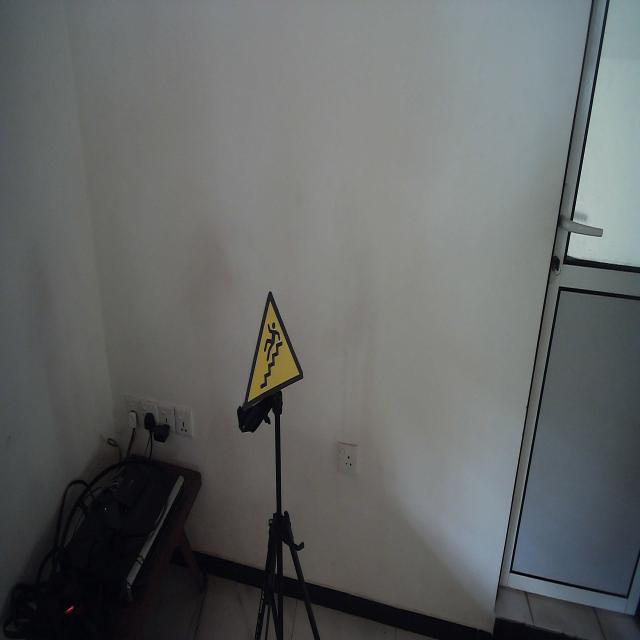stairs: (243, 288, 306, 409)
